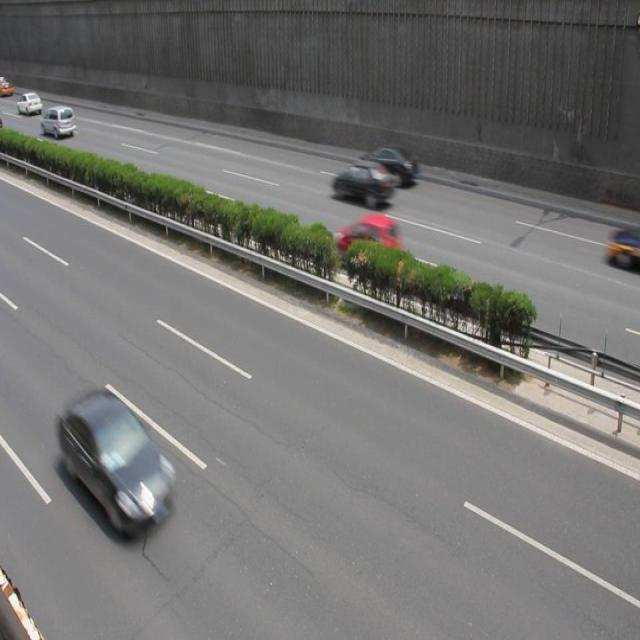car: (55, 394, 176, 540), (335, 214, 404, 275), (330, 158, 394, 210), (359, 143, 418, 192), (606, 223, 640, 270)
truck: (42, 105, 76, 138)
